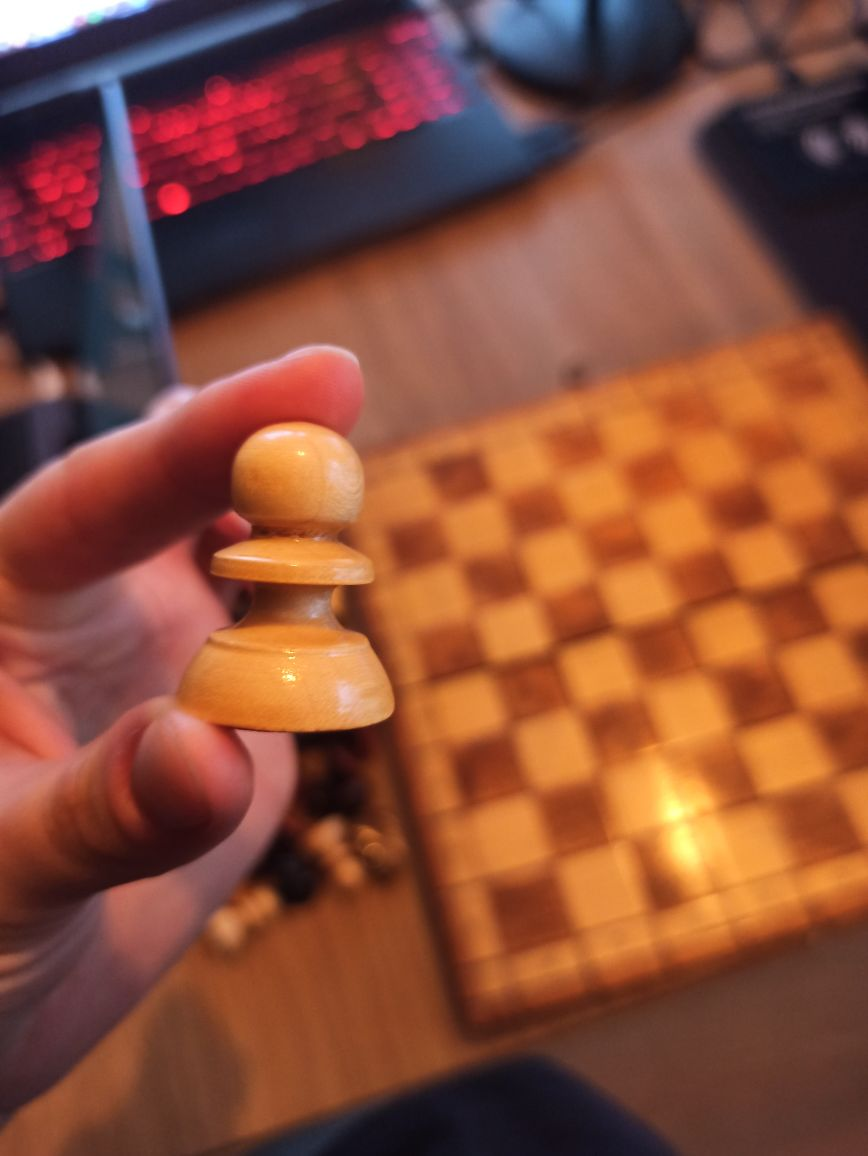wpawn: (191, 420, 397, 733)
